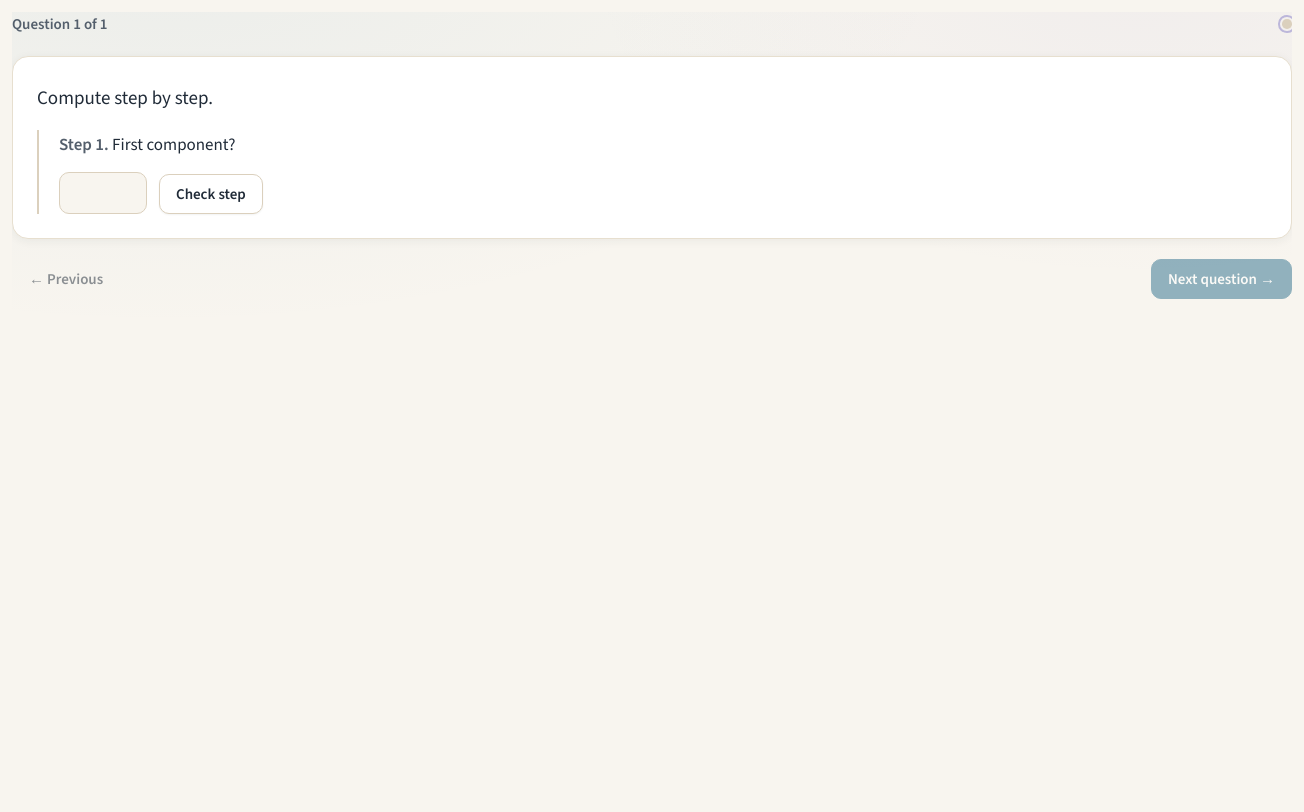
Scenario: ExercisePanel renders the exercise-sequence capability › gates the next step behind a correct answer, then aggregates
This screenshot has width=1304, height=812.
Type "4" into the number field named "Step 1 answer". click: (103, 193)
box: [59,172,147,214]
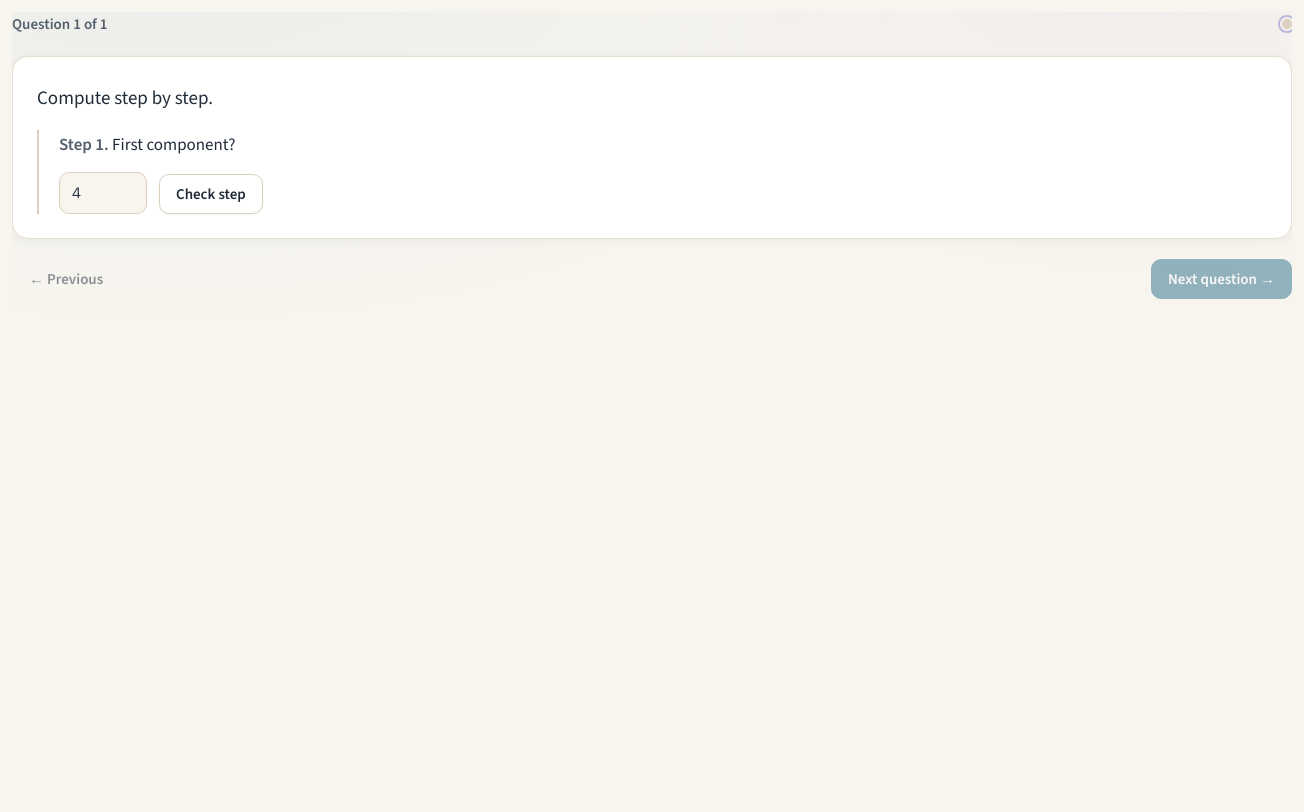
Click the button "Check step". click: (211, 194)
box: [159,174,263,214]
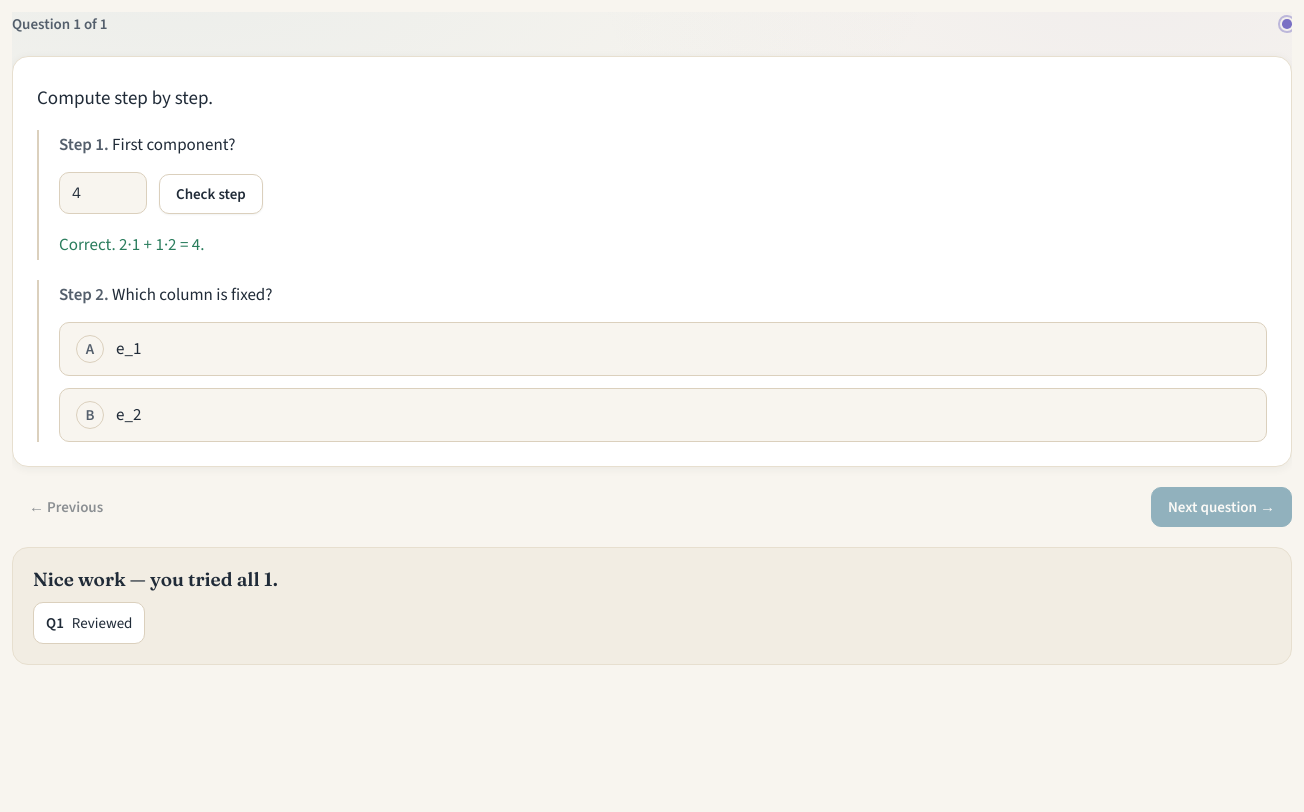
Expected: the button "A e_1" is shown
Click the button "A e_1". click: (90, 348)
box: [59,322,1267,376]
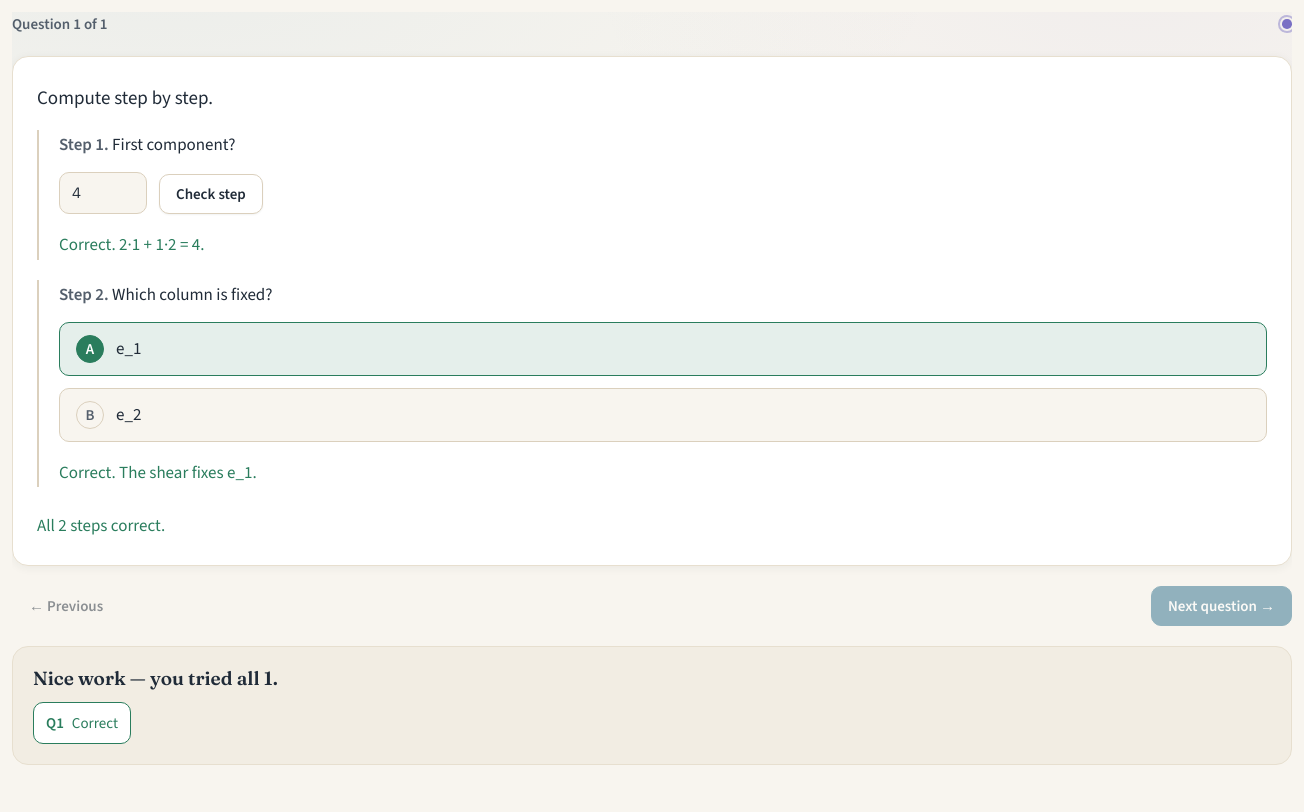
Expected: the text "All 2 steps correct." is shown, [37,514,165,537]
